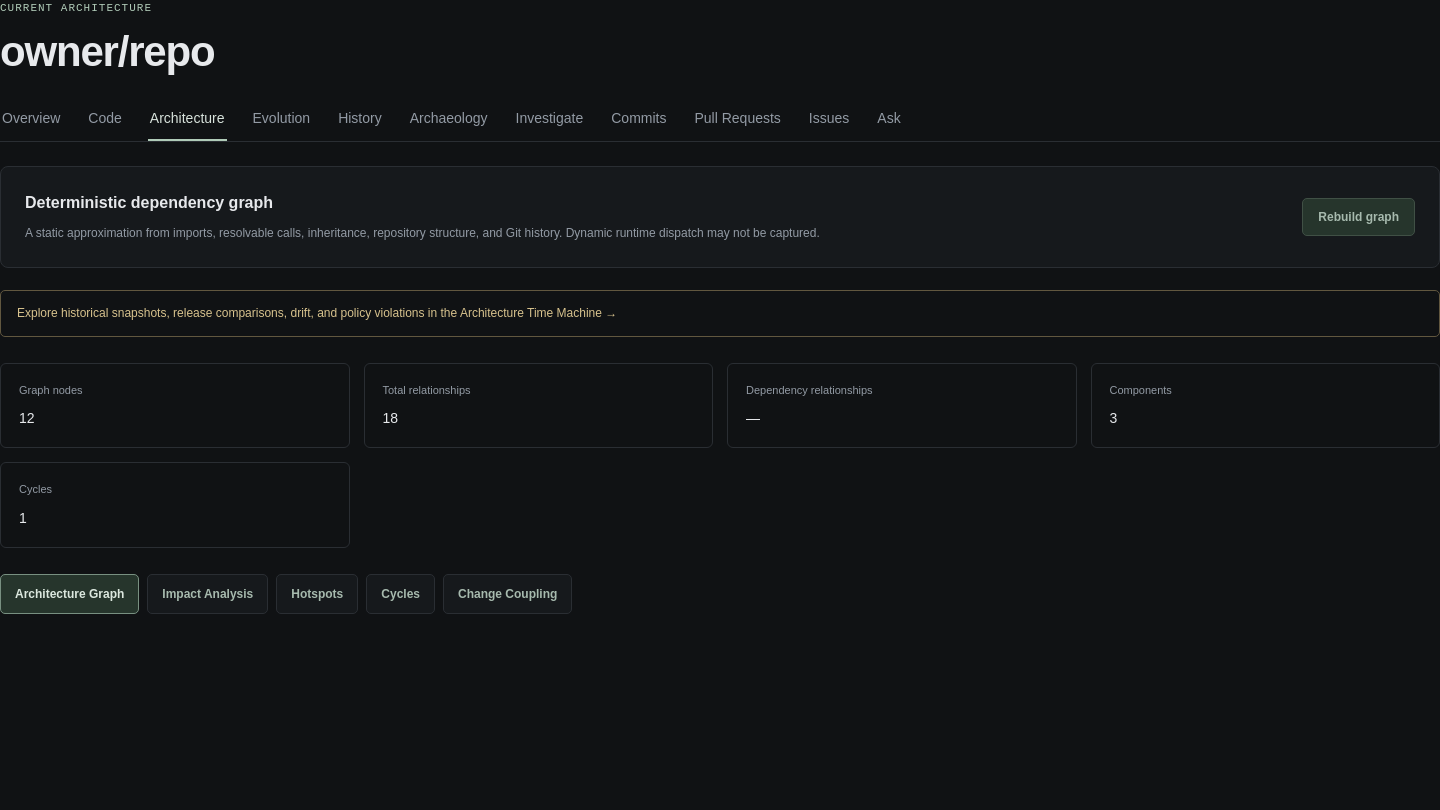
Scenario: current architecture › renders hotspots, cycles, and change coupling
The image size is (1440, 810).
What coordinates should you click on to do the following:
click the tab "Hotspots"
I would click on:
 (317, 594)
Its box is [276,574,358,614].
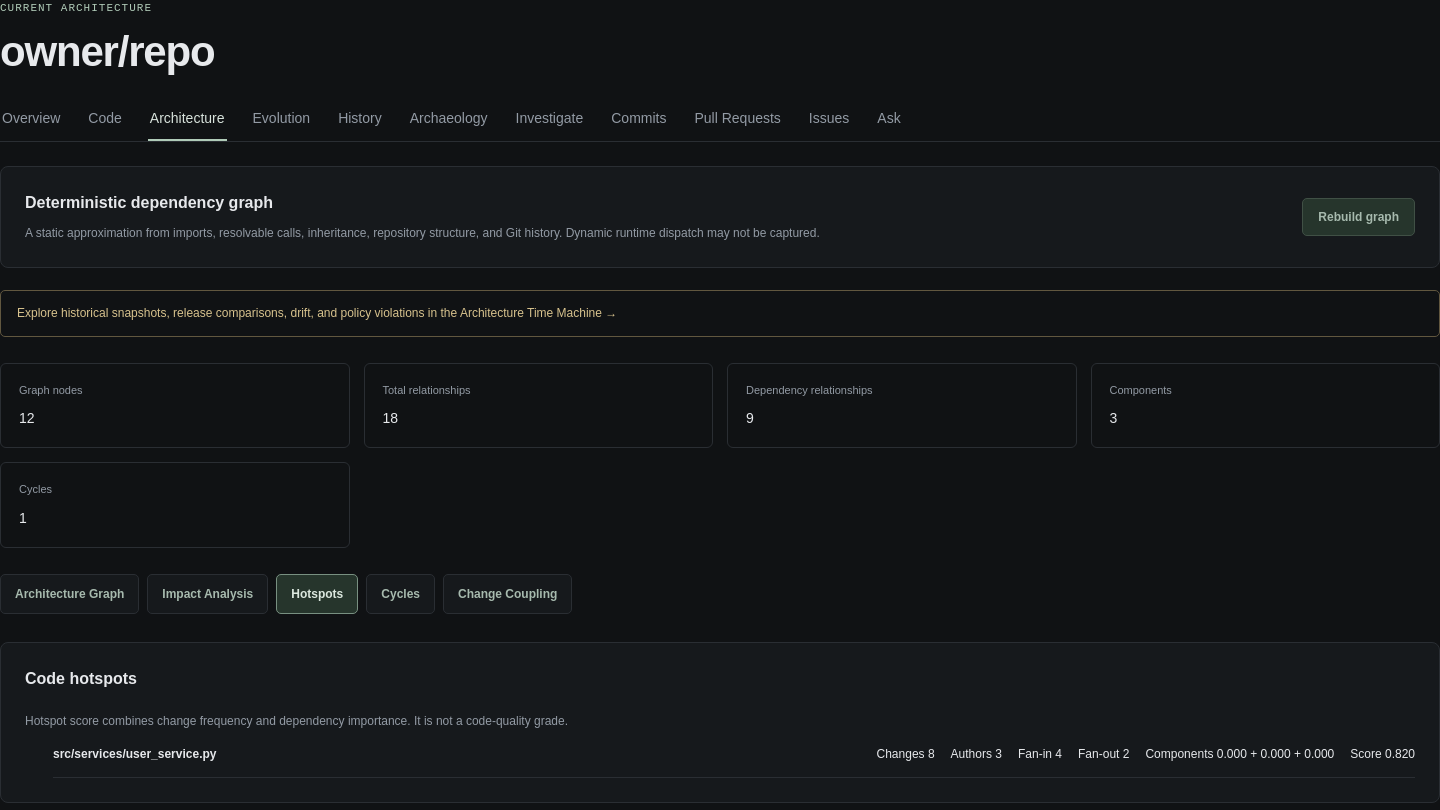
Result: the heading "Code hotspots" is shown at [25,670,137,687]
Result: the text "Score 0.820" is shown at [1350,745,1415,763]
What coordinates should you click on to do the following:
click the tab "Cycles"
I would click on:
 (401, 594)
Its box is [366,574,435,614].
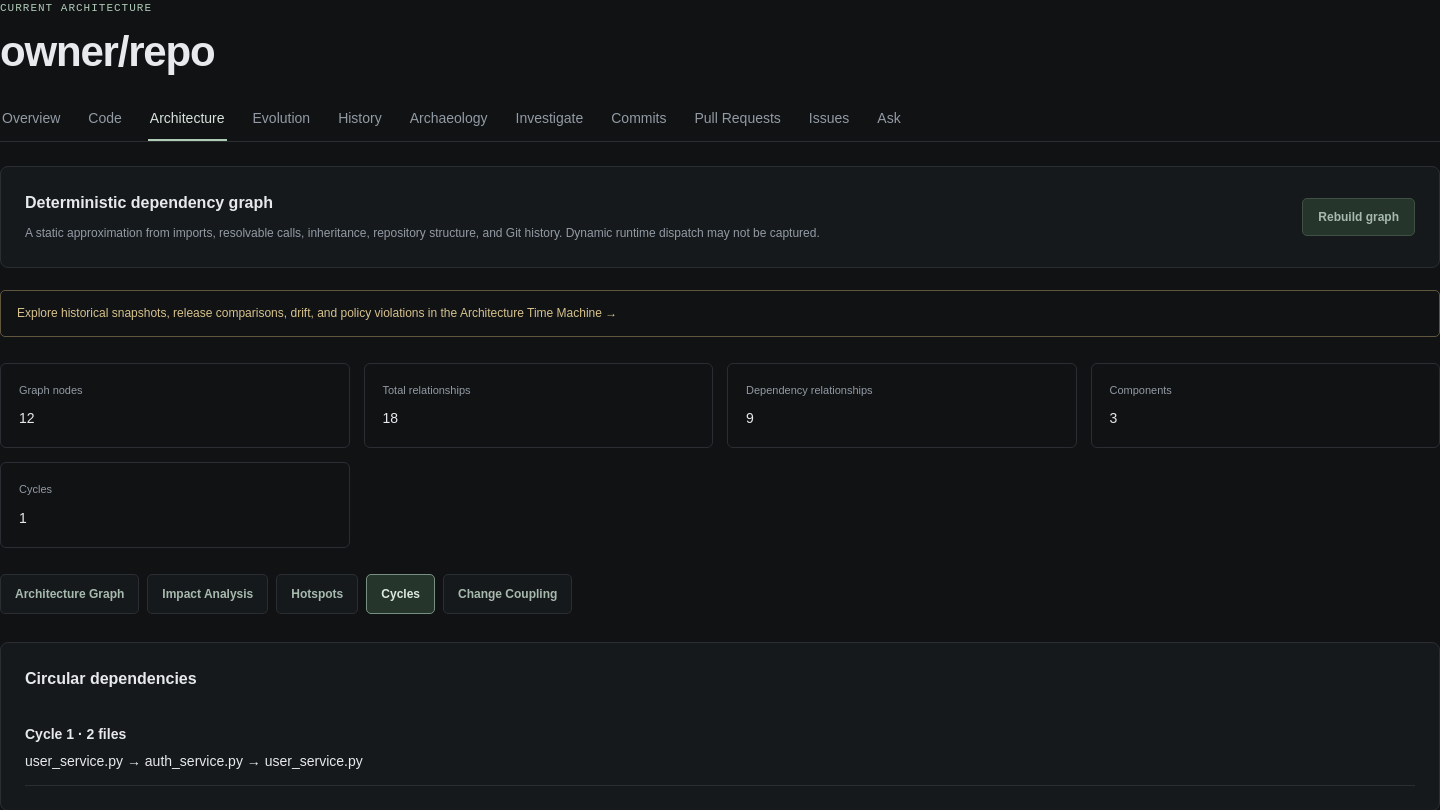
Result: the text "Cycle 1 · 2 files" is shown at [25,726,126,742]
What coordinates should you click on to do the following:
click the tab "Change Coupling"
I would click on:
 (508, 594)
Its box is [443,574,572,614].
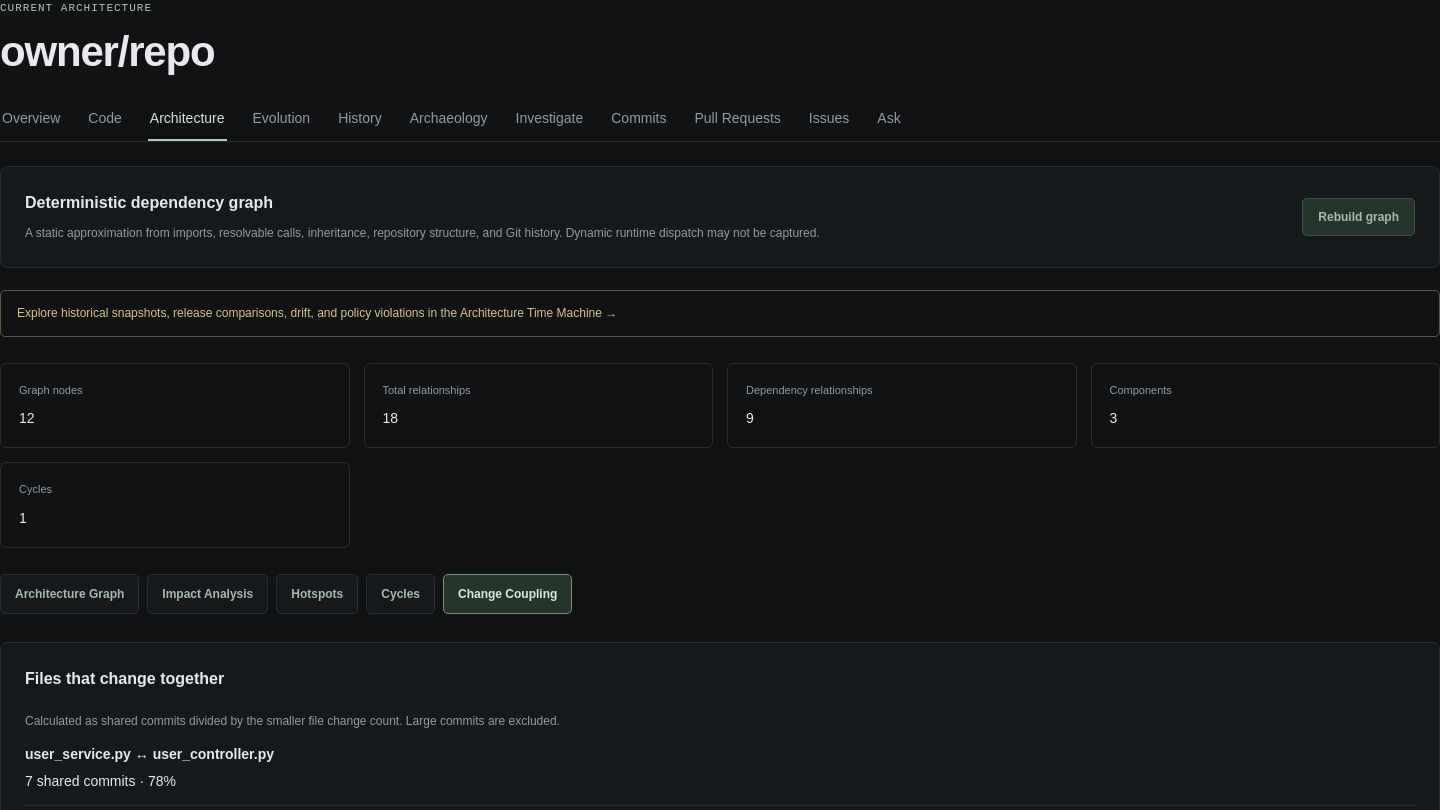
Result: the text "7 shared commits · 78%" is shown at [25,773,176,789]
